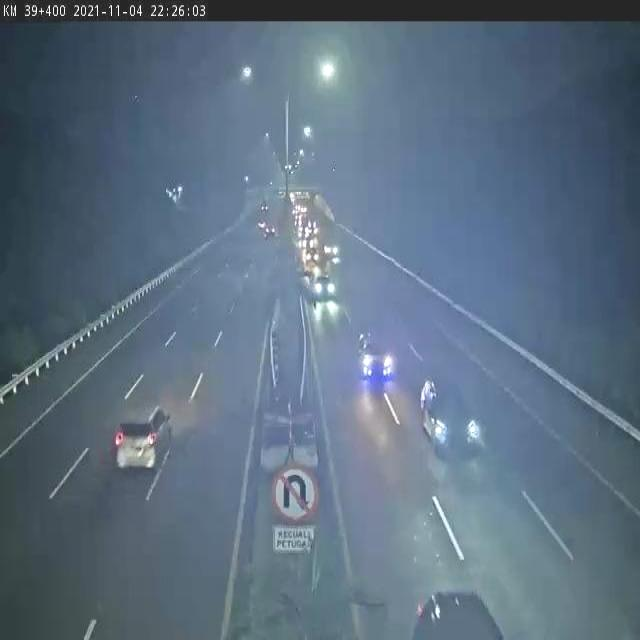Car: (414, 374, 489, 471), (408, 587, 504, 640), (114, 395, 172, 474), (353, 324, 393, 393), (309, 272, 338, 301), (321, 241, 339, 257), (306, 248, 320, 264), (265, 223, 278, 238), (303, 239, 316, 251), (296, 231, 311, 241), (260, 200, 268, 214)
